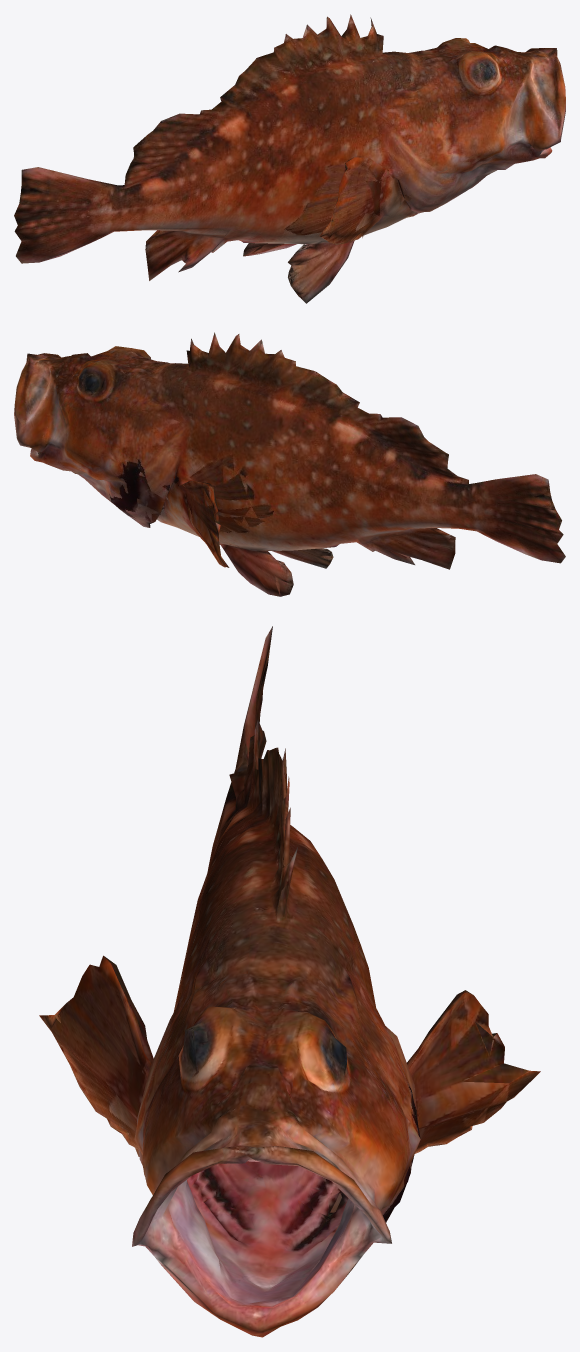
The model's file is scan_rockfish_copper.glb.
3 renders of one model, top to bottom at view 1: azimuth 30°, elevation 25°; view 2: azimuth 150°, elevation 25°; view 3: azimuth 270°, elevation 25°, orthographic. The views are drawn at different scales.
Visible parts, largest first — view 1: scan_rockfish_copper; view 2: scan_rockfish_copper; view 3: scan_rockfish_copper.
Boxes of the visible parts, x1,y1,x2,y2 form: scan_rockfish_copper: (14,14,565,303); scan_rockfish_copper: (14,332,565,596); scan_rockfish_copper: (39,626,540,1337).
Bounding box in the file's own units: 0.4175 × 0.1832 × 0.1691.
1 material, 1 textured.
